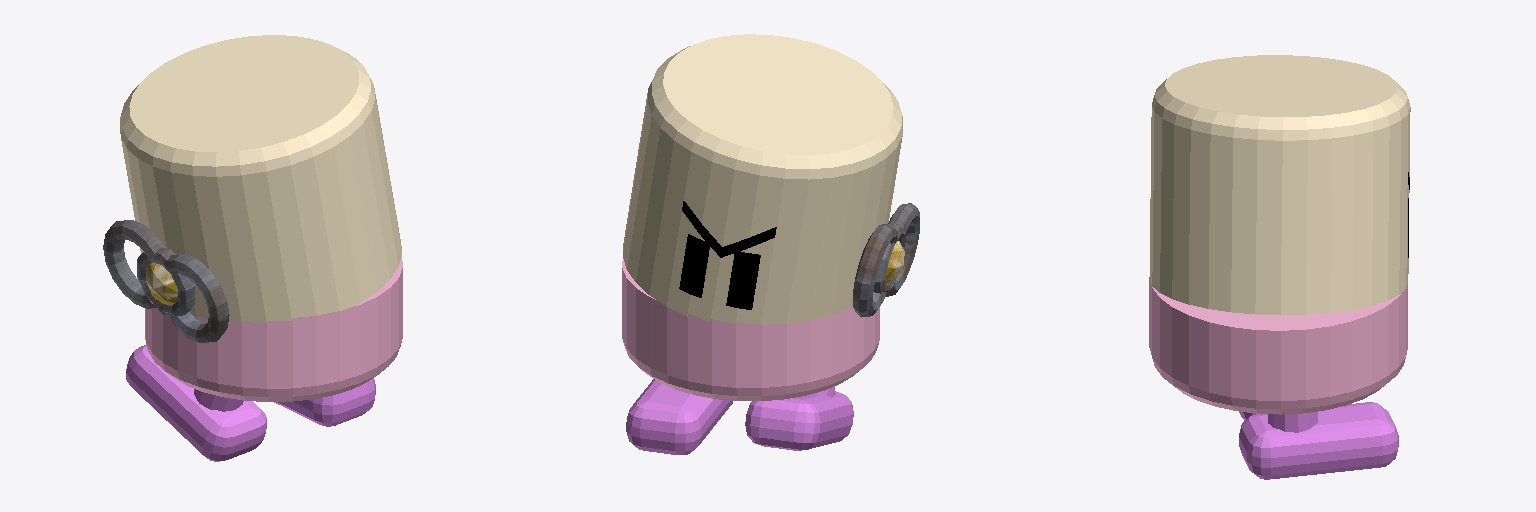
3 renders of one model, left to right at view 1: azimuth 30°, elevation 25°; view 2: azimuth 150°, elevation 25°; view 3: azimuth 270°, elevation 25°, orthographic.
Visible parts, largest first — view 1: Head, Jaw, WindupKey, LeftLeg, RightLeg; view 2: Head, Jaw, RightLeg, LeftLeg, WindupKey; view 3: Head, Jaw, RightLeg.
Boxes of the visible parts, <box> form: Head: <box>120,35,401,322</box>; Jaw: <box>145,257,402,401</box>; WindupKey: <box>103,220,229,342</box>; LeftLeg: <box>126,345,266,461</box>; RightLeg: <box>274,378,375,426</box>; Head: <box>623,34,902,324</box>; Jaw: <box>622,259,879,400</box>; RightLeg: <box>626,379,732,454</box>; LeftLeg: <box>745,386,853,450</box>; WindupKey: <box>853,203,919,317</box>; Head: <box>1150,55,1410,314</box>; Jaw: <box>1149,277,1407,414</box>; RightLeg: <box>1239,402,1398,479</box>.
Size of the model in its own units: 115 by 155 by 101.
6 materials, 2 textured.